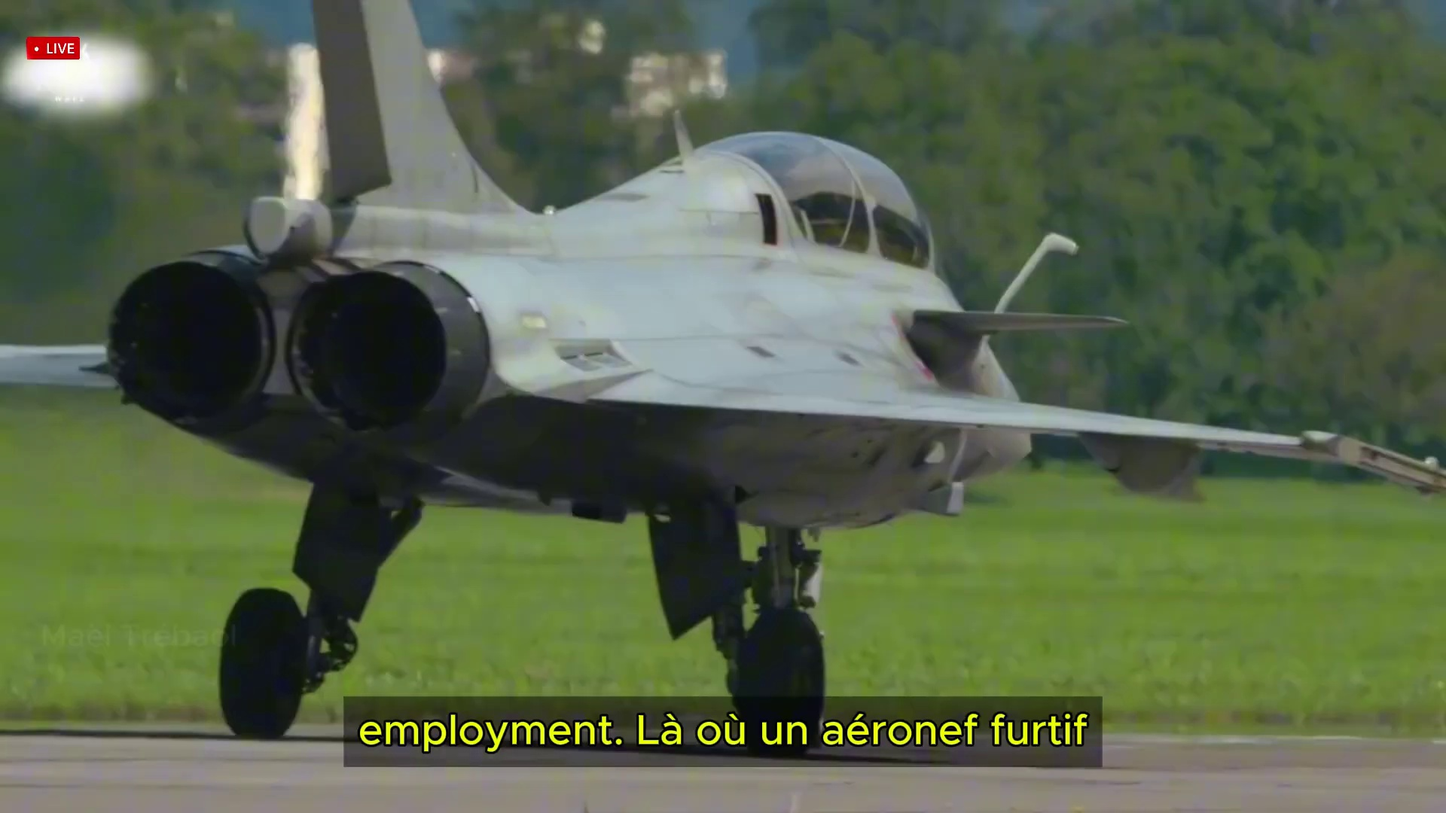Rafale: (7, 4, 1433, 754)
